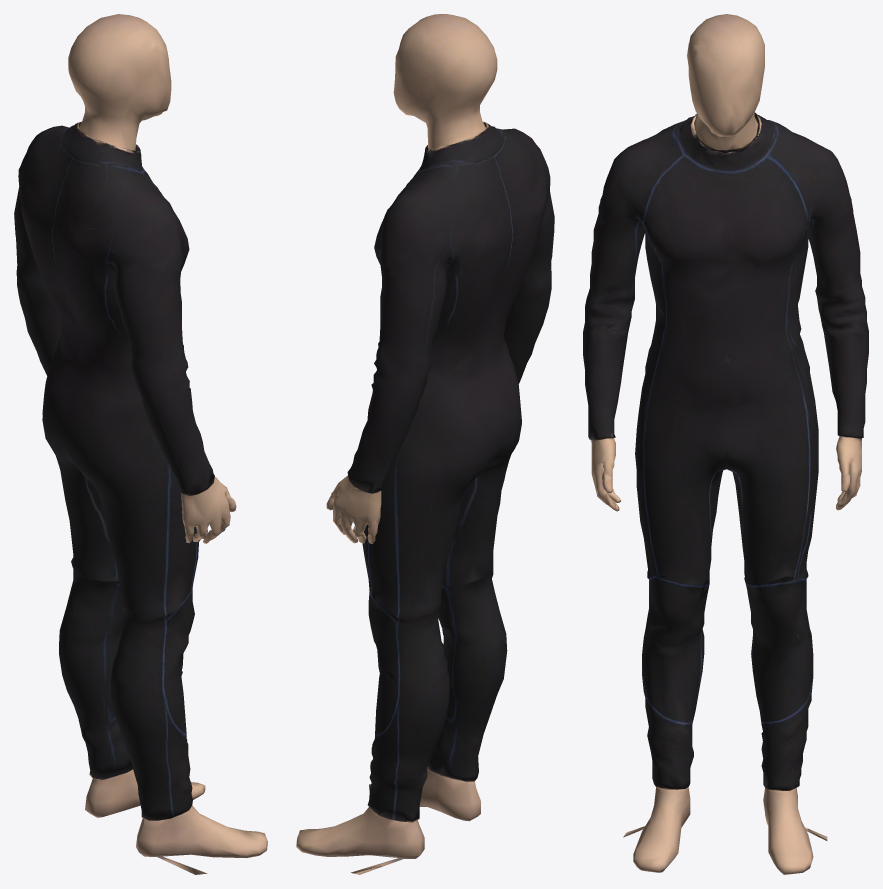
File: paspop.glb
3 views of the same model, side by side, from view 1: azimuth 30°, elevation 25°; view 2: azimuth 150°, elevation 25°; view 3: azimuth 270°, elevation 25° (orthographic). The views are drawn at different scales.
Parts seen in each view (by area): view 1: tripo_node_a55b6dc2-f746-4b6d-815d-43010c5406ea; view 2: tripo_node_a55b6dc2-f746-4b6d-815d-43010c5406ea; view 3: tripo_node_a55b6dc2-f746-4b6d-815d-43010c5406ea.
Part boxes in pixels (box(x1,y1,x2,y2)): tripo_node_a55b6dc2-f746-4b6d-815d-43010c5406ea: box(14, 14, 267, 874); tripo_node_a55b6dc2-f746-4b6d-815d-43010c5406ea: box(296, 14, 554, 874); tripo_node_a55b6dc2-f746-4b6d-815d-43010c5406ea: box(583, 14, 868, 874).
Size of the model in its own units: 0.4262 by 1.8 by 0.5812.
1 material, 1 textured.
